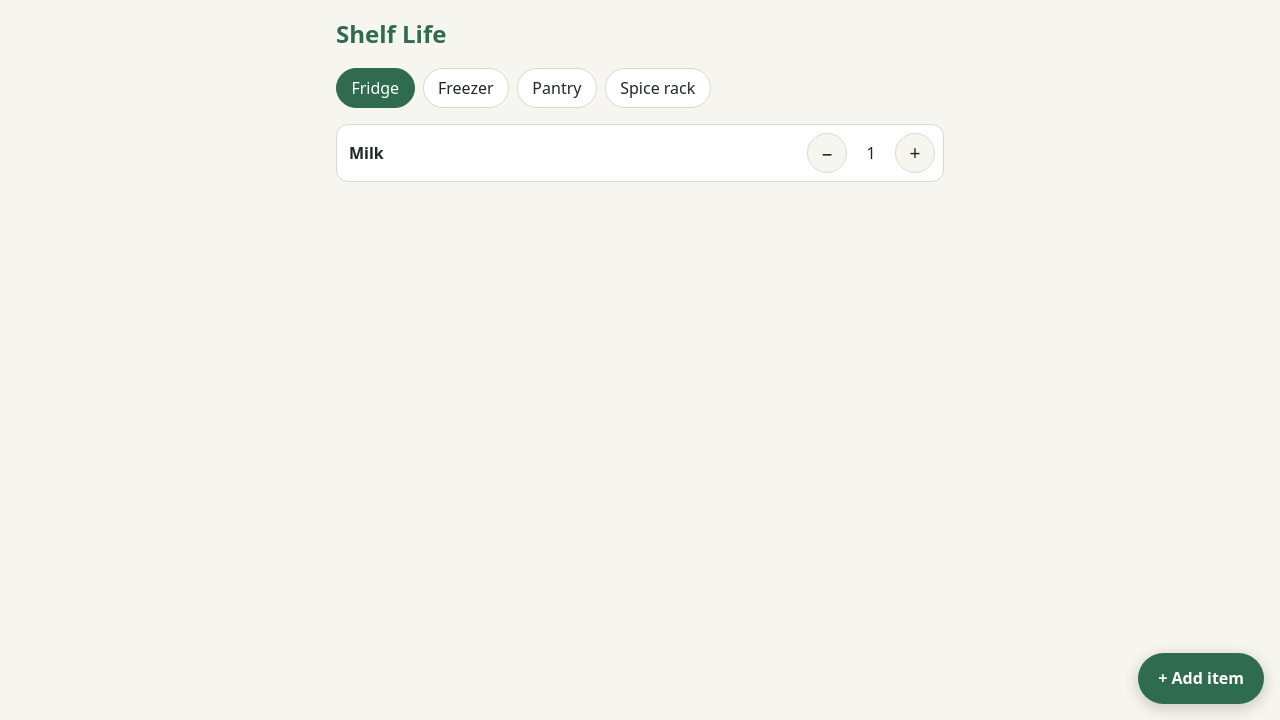
Inventory screens › moves an item to another location without re-entering it (Req 1.6)
Click the button "Milk" at point(366, 153), box [337,129,799,177]
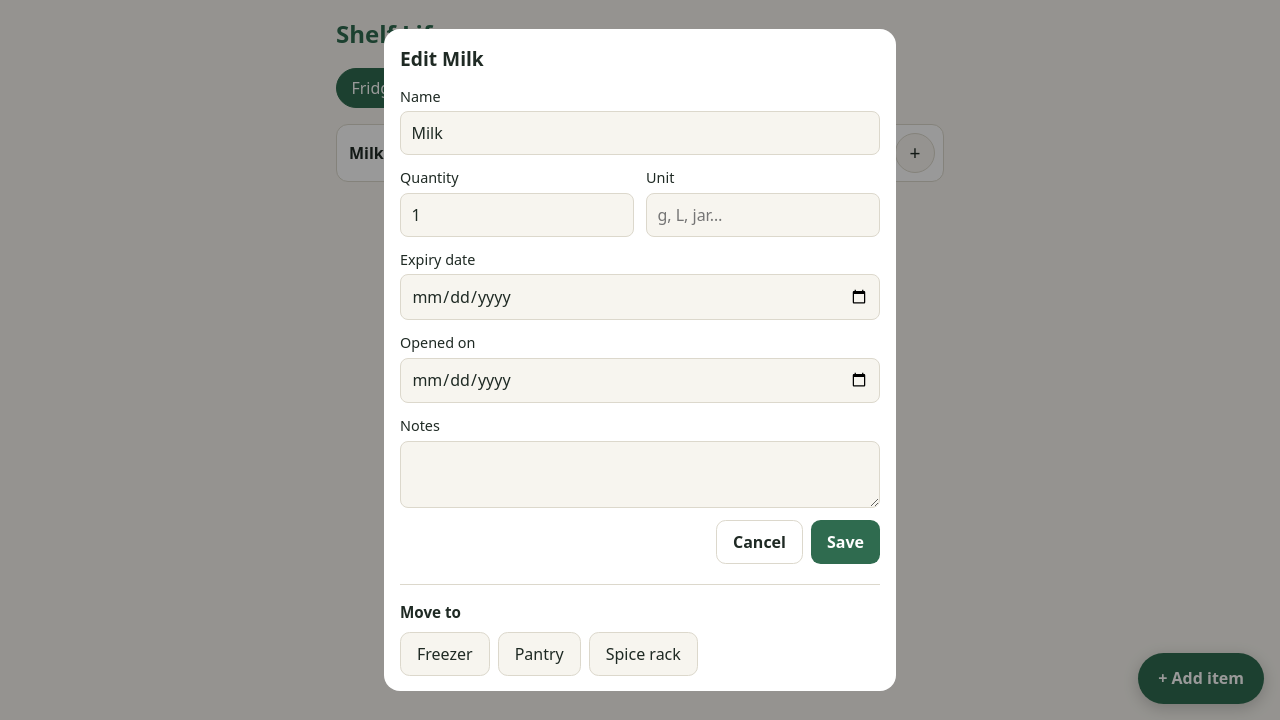
Click the button "Freezer" at point(445, 654), box [400,632,490,676]
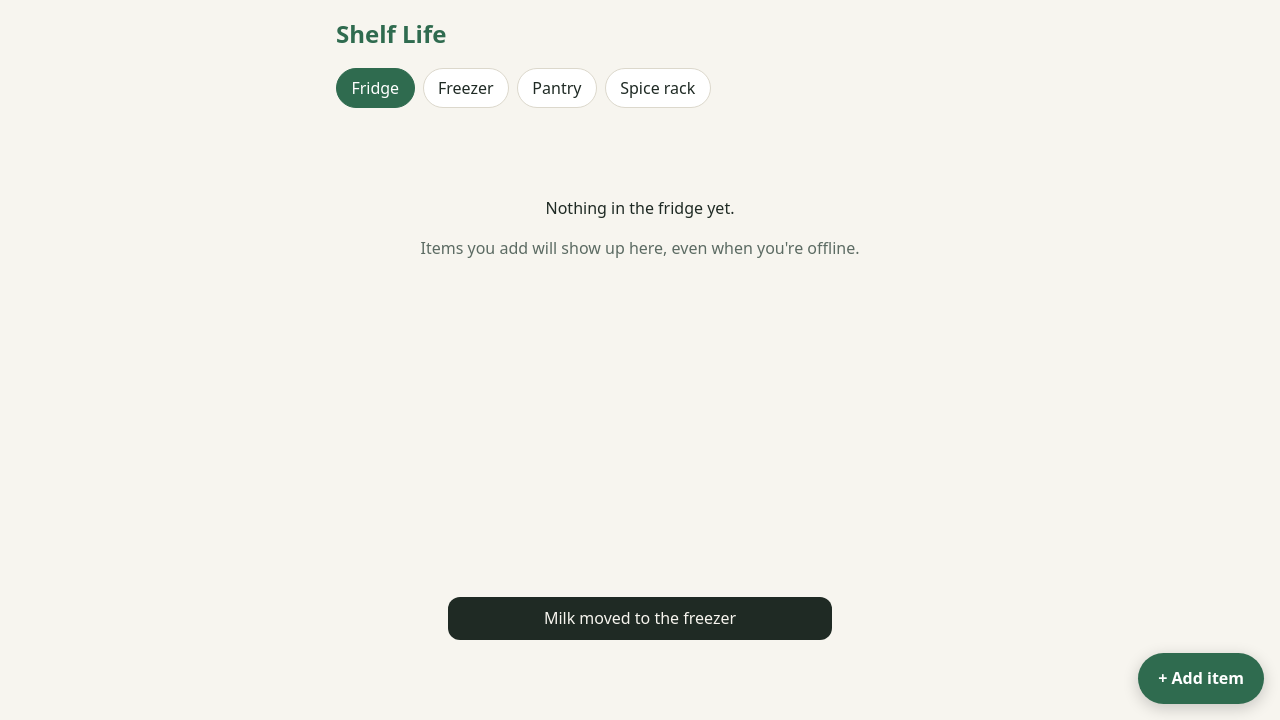
Now the text "Nothing in the fridge yet." is shown, box [546,197,734,219]
Click the tab "Freezer" at point(466, 88), box [422,68,509,108]
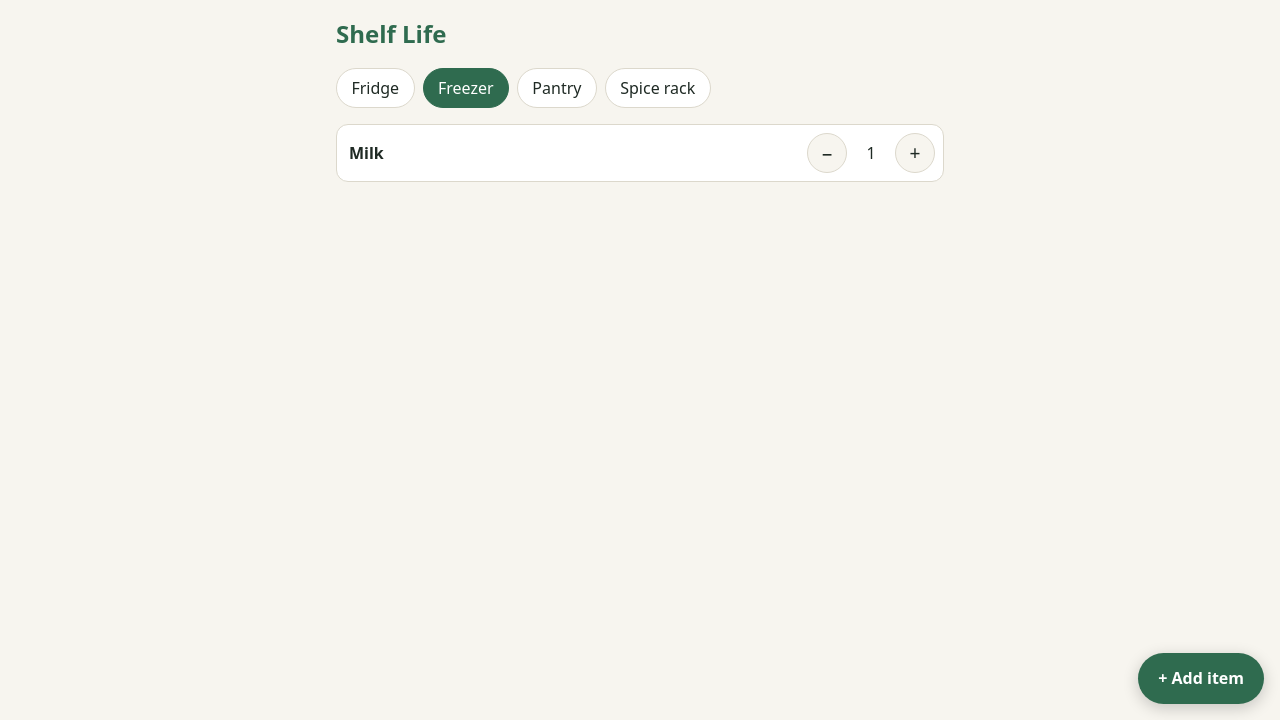
Now the list item "Milk" is shown, box [337,129,799,177]
